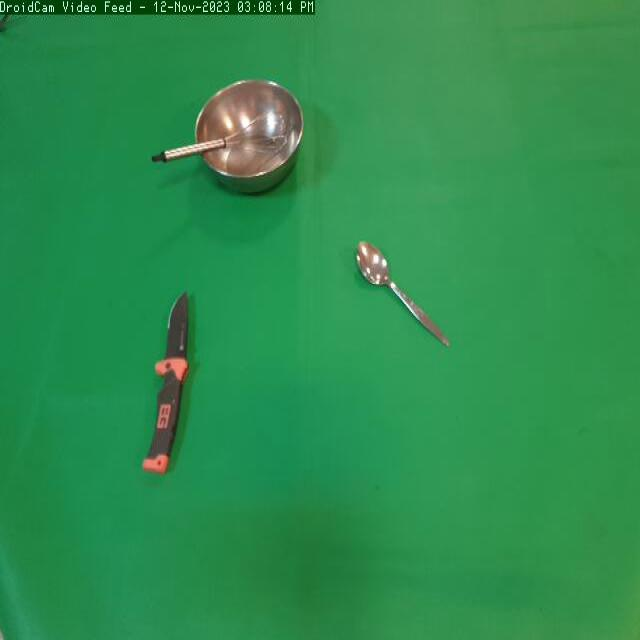bowl: (192, 74, 303, 190)
knife: (138, 280, 219, 496)
spoon: (349, 231, 454, 351)
whisk: (153, 105, 294, 169)
